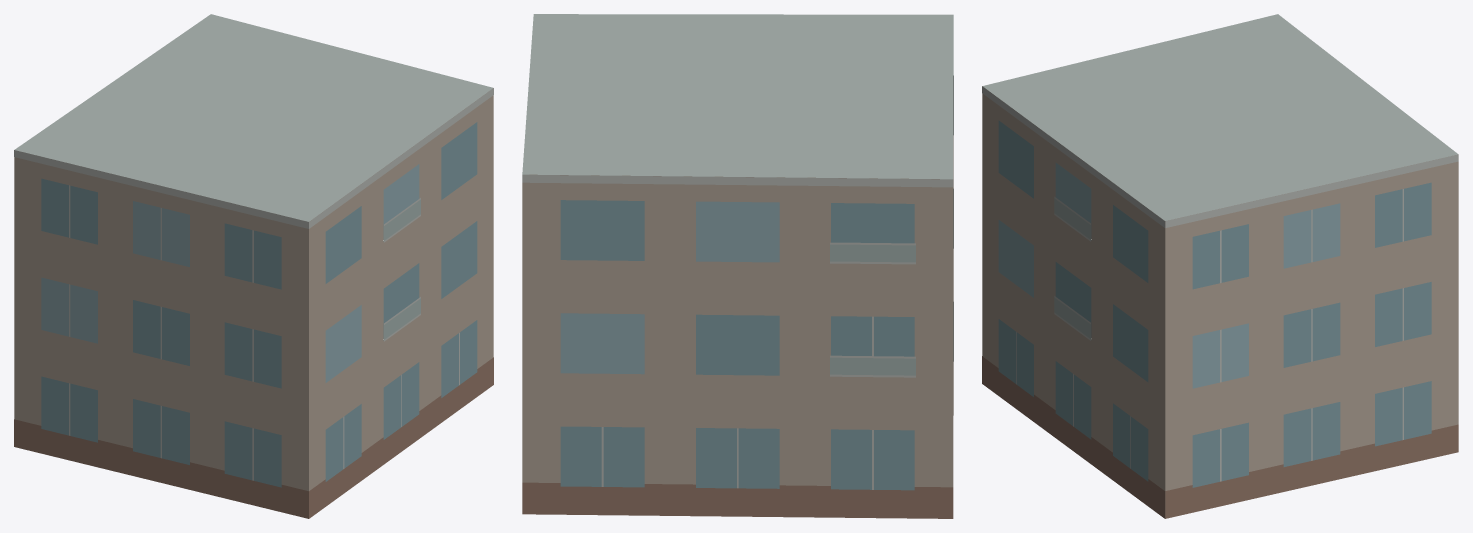
Rendered from survey-upis-32714508.glb.
3 views of the same model, side by side, from view 1: azimuth 30°, elevation 25°; view 2: azimuth 150°, elevation 25°; view 3: azimuth 270°, elevation 25° (orthographic). The views are drawn at different scales.
Visible parts, largest first — view 1: survey-upis-32714508.tmp; view 2: survey-upis-32714508.tmp; view 3: survey-upis-32714508.tmp.
Part boxes in pixels (x1=…): survey-upis-32714508.tmp: x1=14, y1=14, x2=493, y2=518; survey-upis-32714508.tmp: x1=522, y1=14, x2=953, y2=518; survey-upis-32714508.tmp: x1=982, y1=14, x2=1458, y2=518.
Size of the model in its own units: 15.23 by 10.2 by 14.8.
